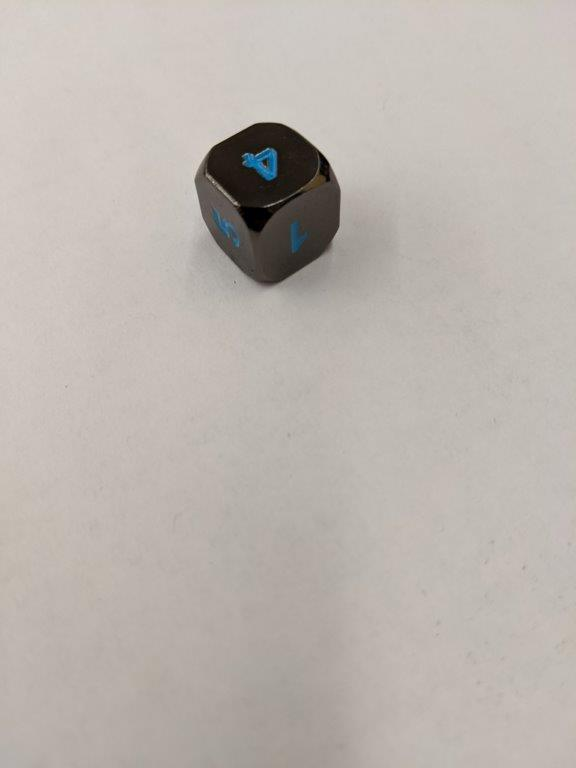d6-4: (193, 121, 342, 286)
